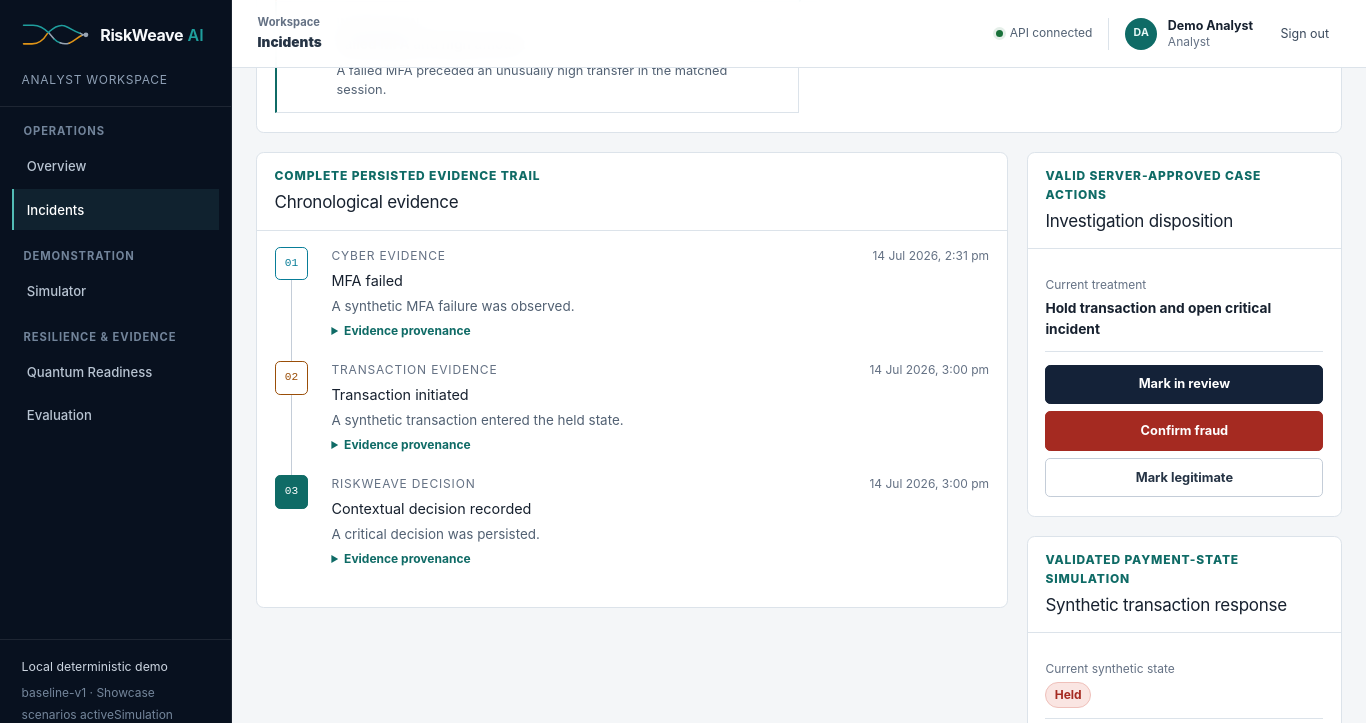
Scenario: RiskWeave authenticated product › handles a stale analyst transition as a visible conflict
The image size is (1366, 723).
(page scrolled)
Click the button "Mark in review". click: (1184, 384)
box: [1045, 364, 1323, 404]
(page scrolled)
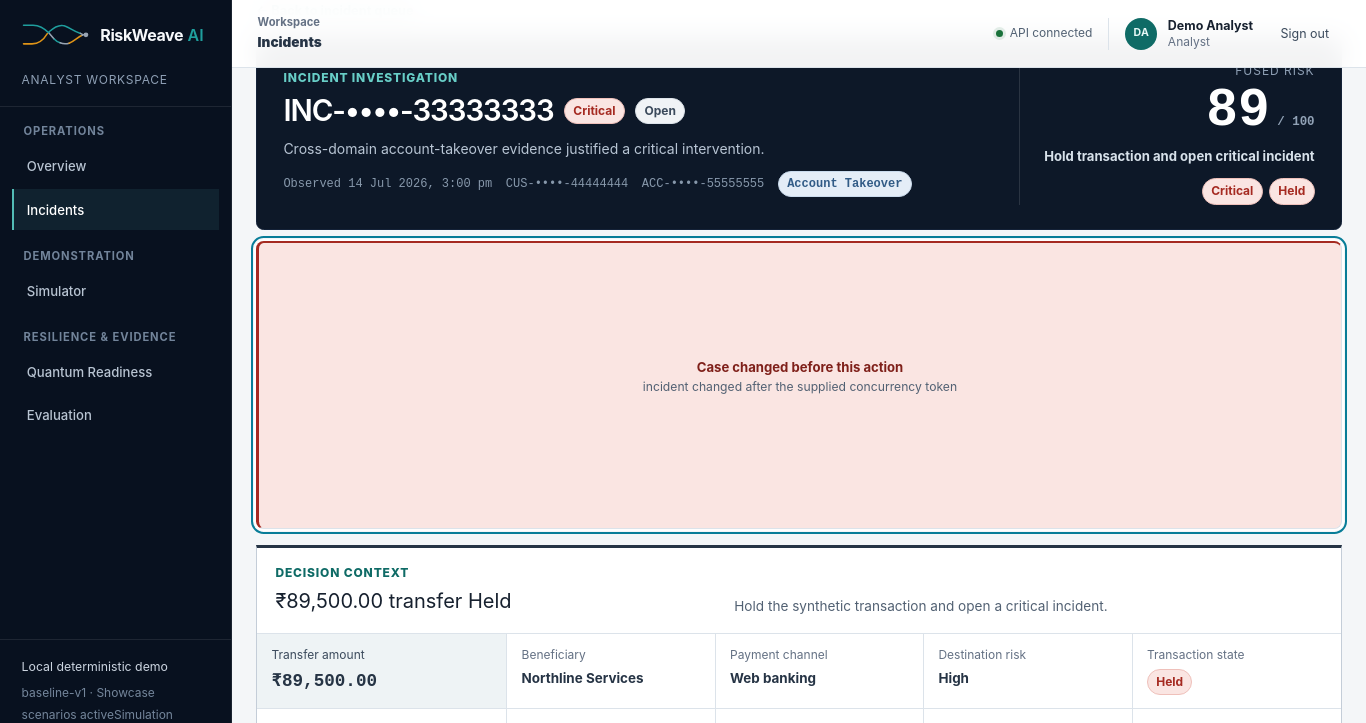
Now the text "Case changed before this action" is shown, box [697, 358, 903, 378]
